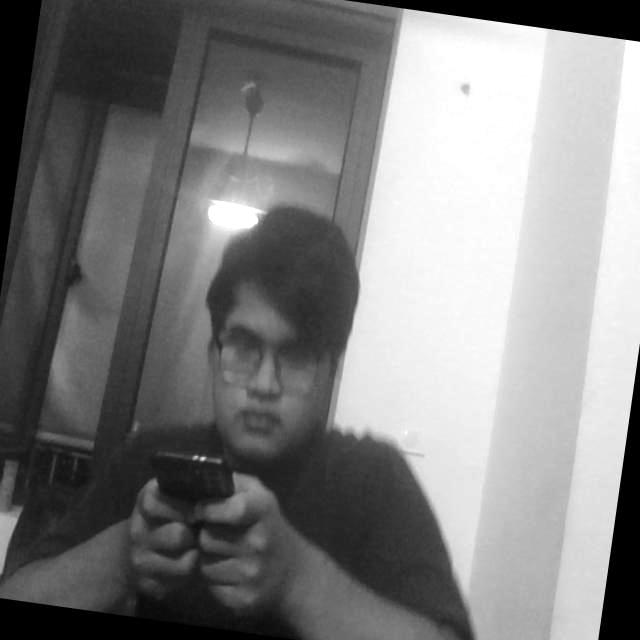phone: (125, 427, 265, 567)
